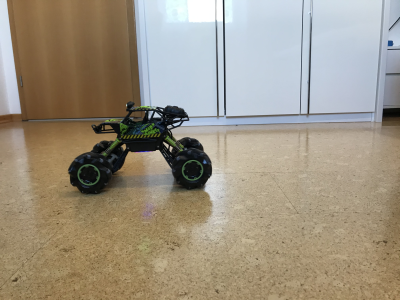remote control car: (67, 100, 213, 196)
